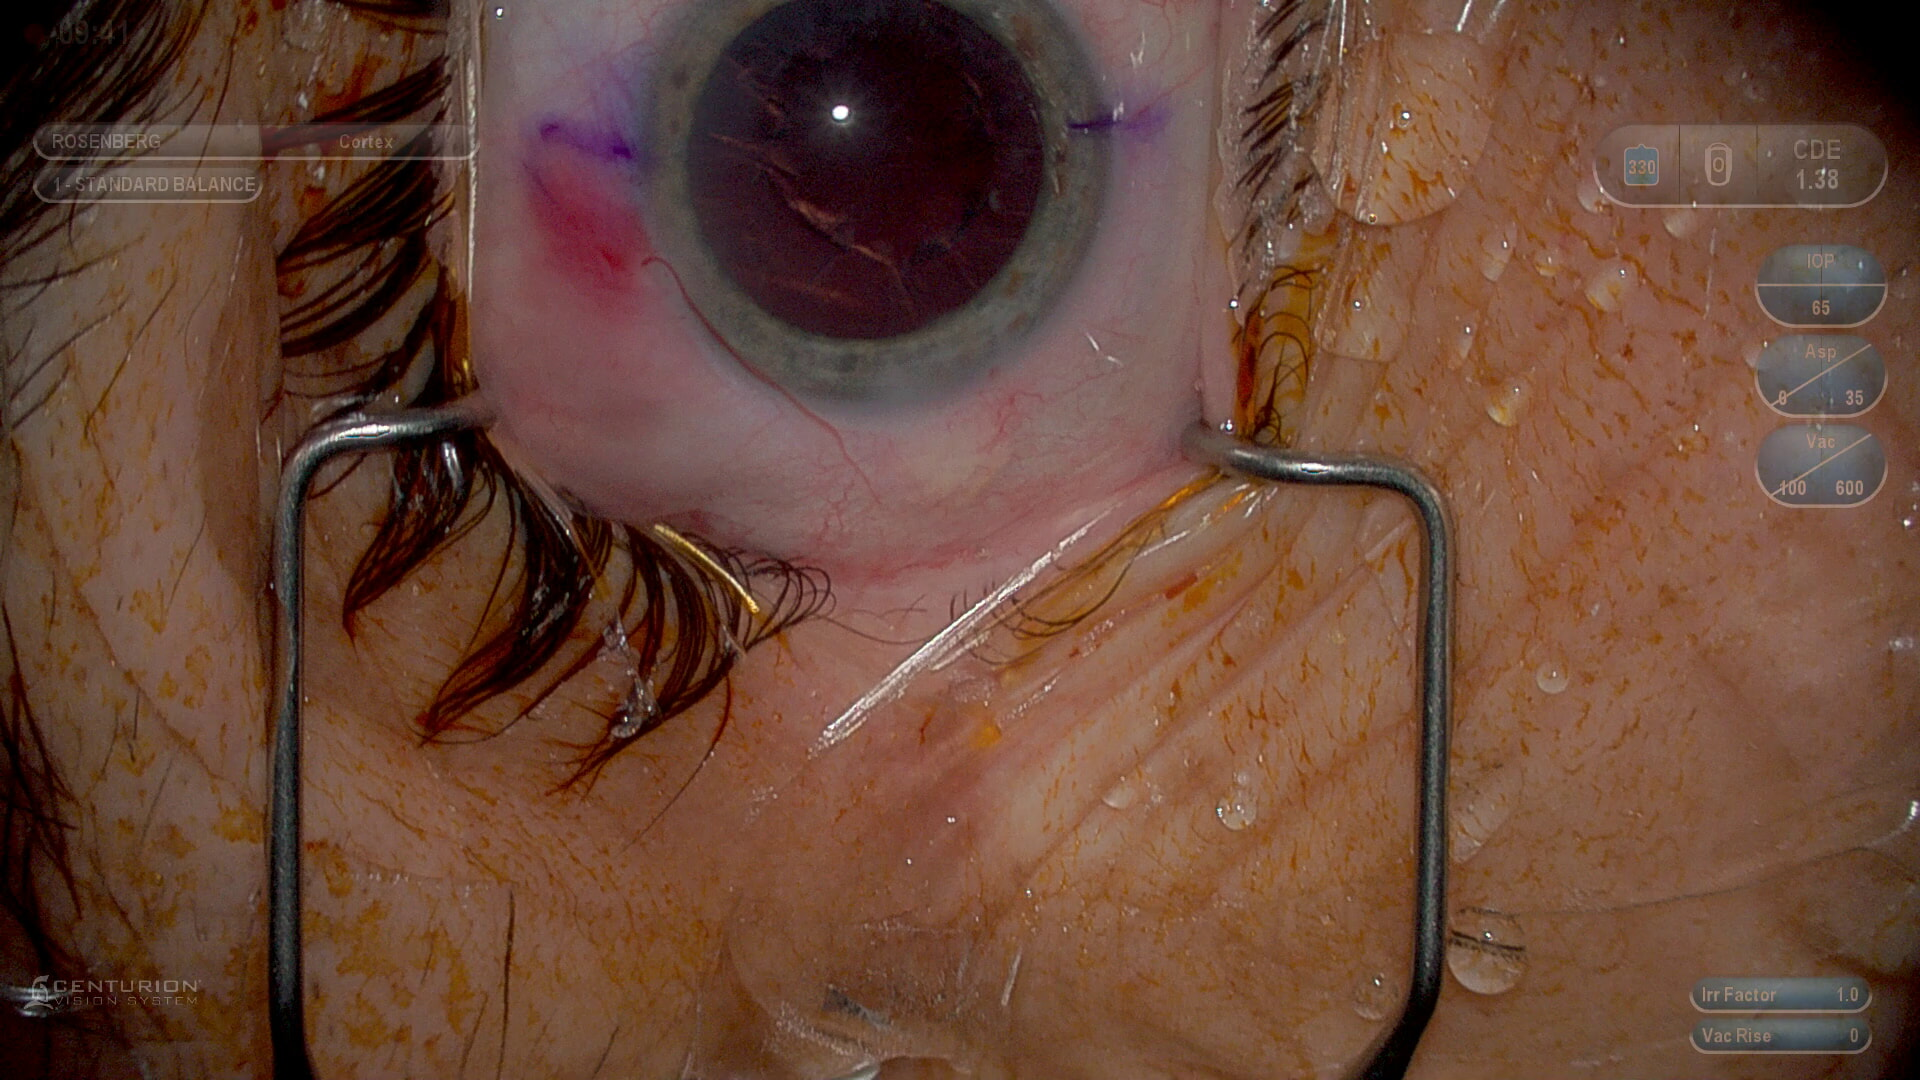iris: (644, 1, 1108, 404)
pupil: (688, 1, 1045, 343)
